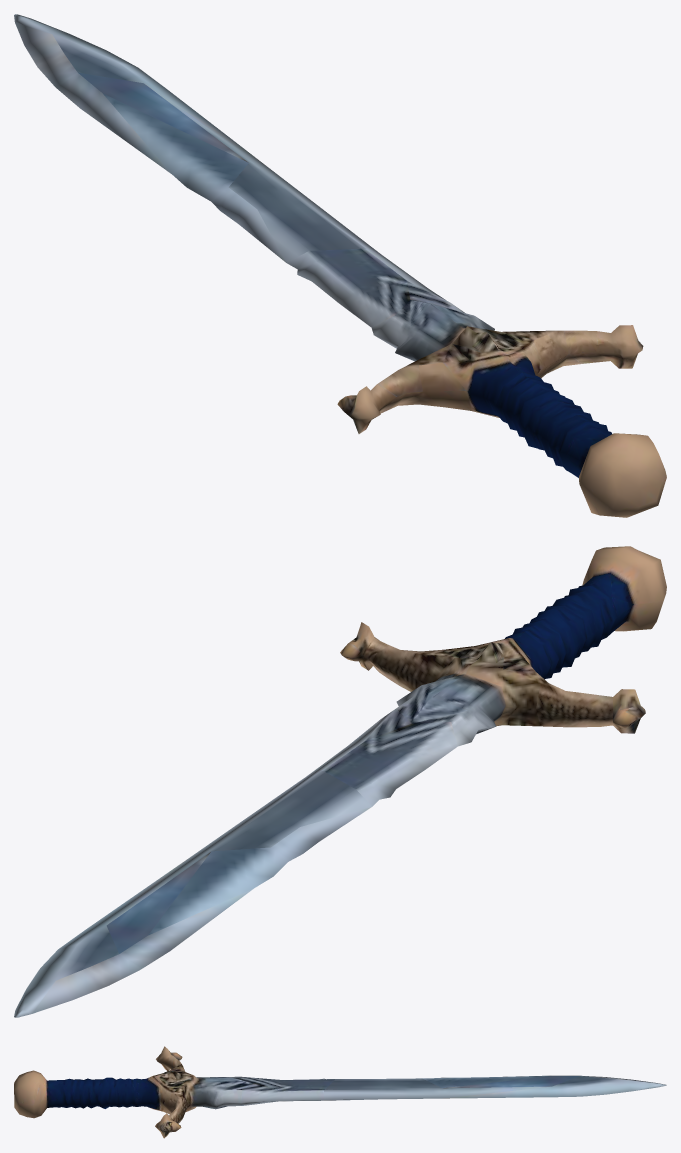
Rendered from g_short_sword.fbx.
The picture shows the model from 3 angles, top to bottom: view 1: azimuth 30°, elevation 25°; view 2: azimuth 150°, elevation 25°; view 3: azimuth 270°, elevation 25°; orthographic projection. The views are drawn at different scales.
Visible parts, largest first — view 1: tripo_node_7e1cd396-5590-411c-bb47-b684ad7afa62; view 2: tripo_node_7e1cd396-5590-411c-bb47-b684ad7afa62; view 3: tripo_node_7e1cd396-5590-411c-bb47-b684ad7afa62.
Boxes of the visible parts, left/top/right/bottom form: tripo_node_7e1cd396-5590-411c-bb47-b684ad7afa62: left=14, top=14, right=666, bottom=517; tripo_node_7e1cd396-5590-411c-bb47-b684ad7afa62: left=14, top=546, right=666, bottom=1017; tripo_node_7e1cd396-5590-411c-bb47-b684ad7afa62: left=14, top=1046, right=666, bottom=1138.
Bounding box in the file's own units: 0.2862 × 0.0804 × 1.06.
1 material, 1 textured.
